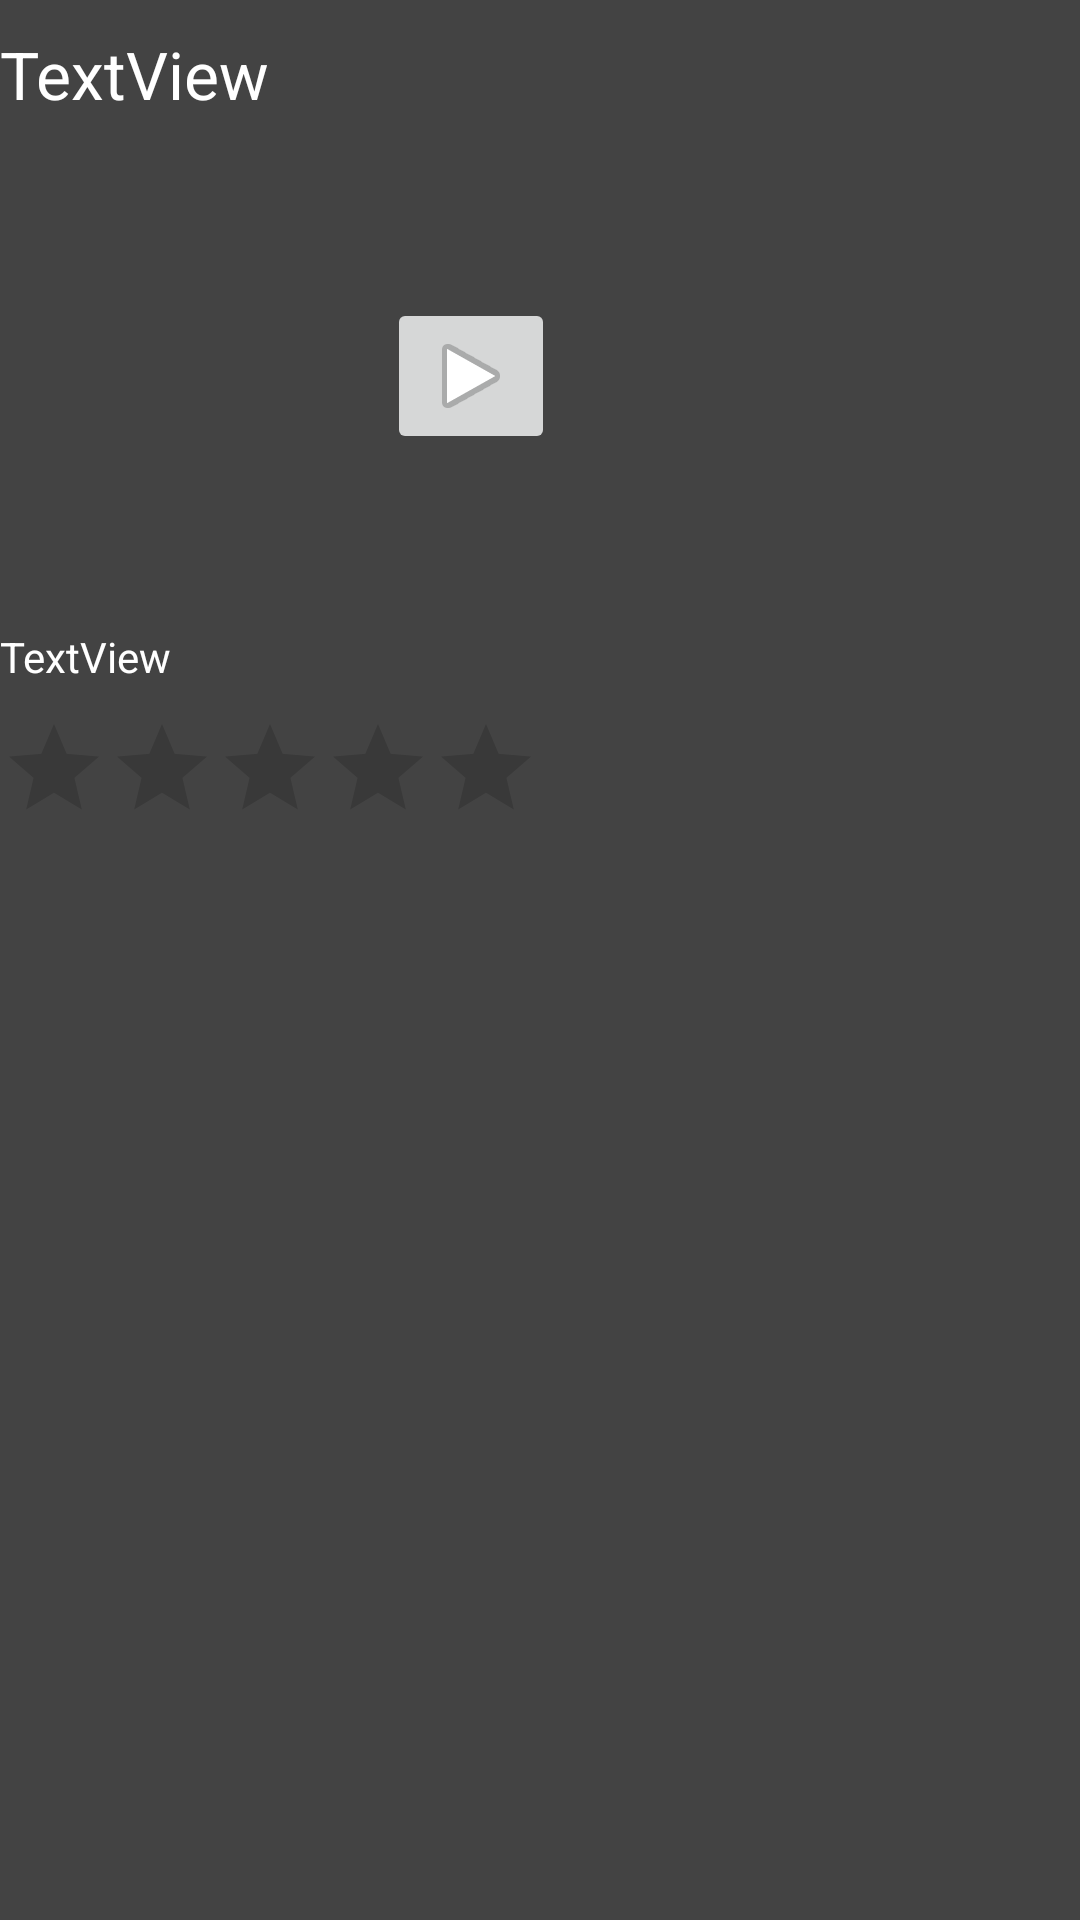

Where to tap for icons on this 1080x1920 app screen, as [x,y]:
play: [471,376]
